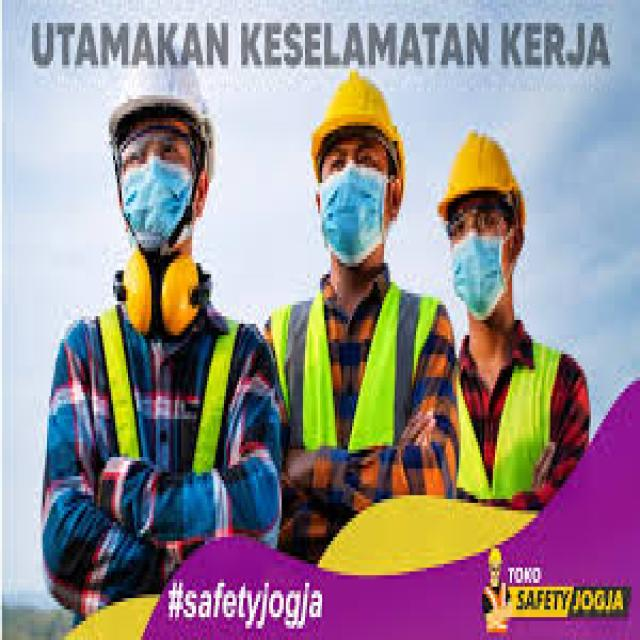glasses: (118, 118, 198, 176), (447, 201, 507, 238)
